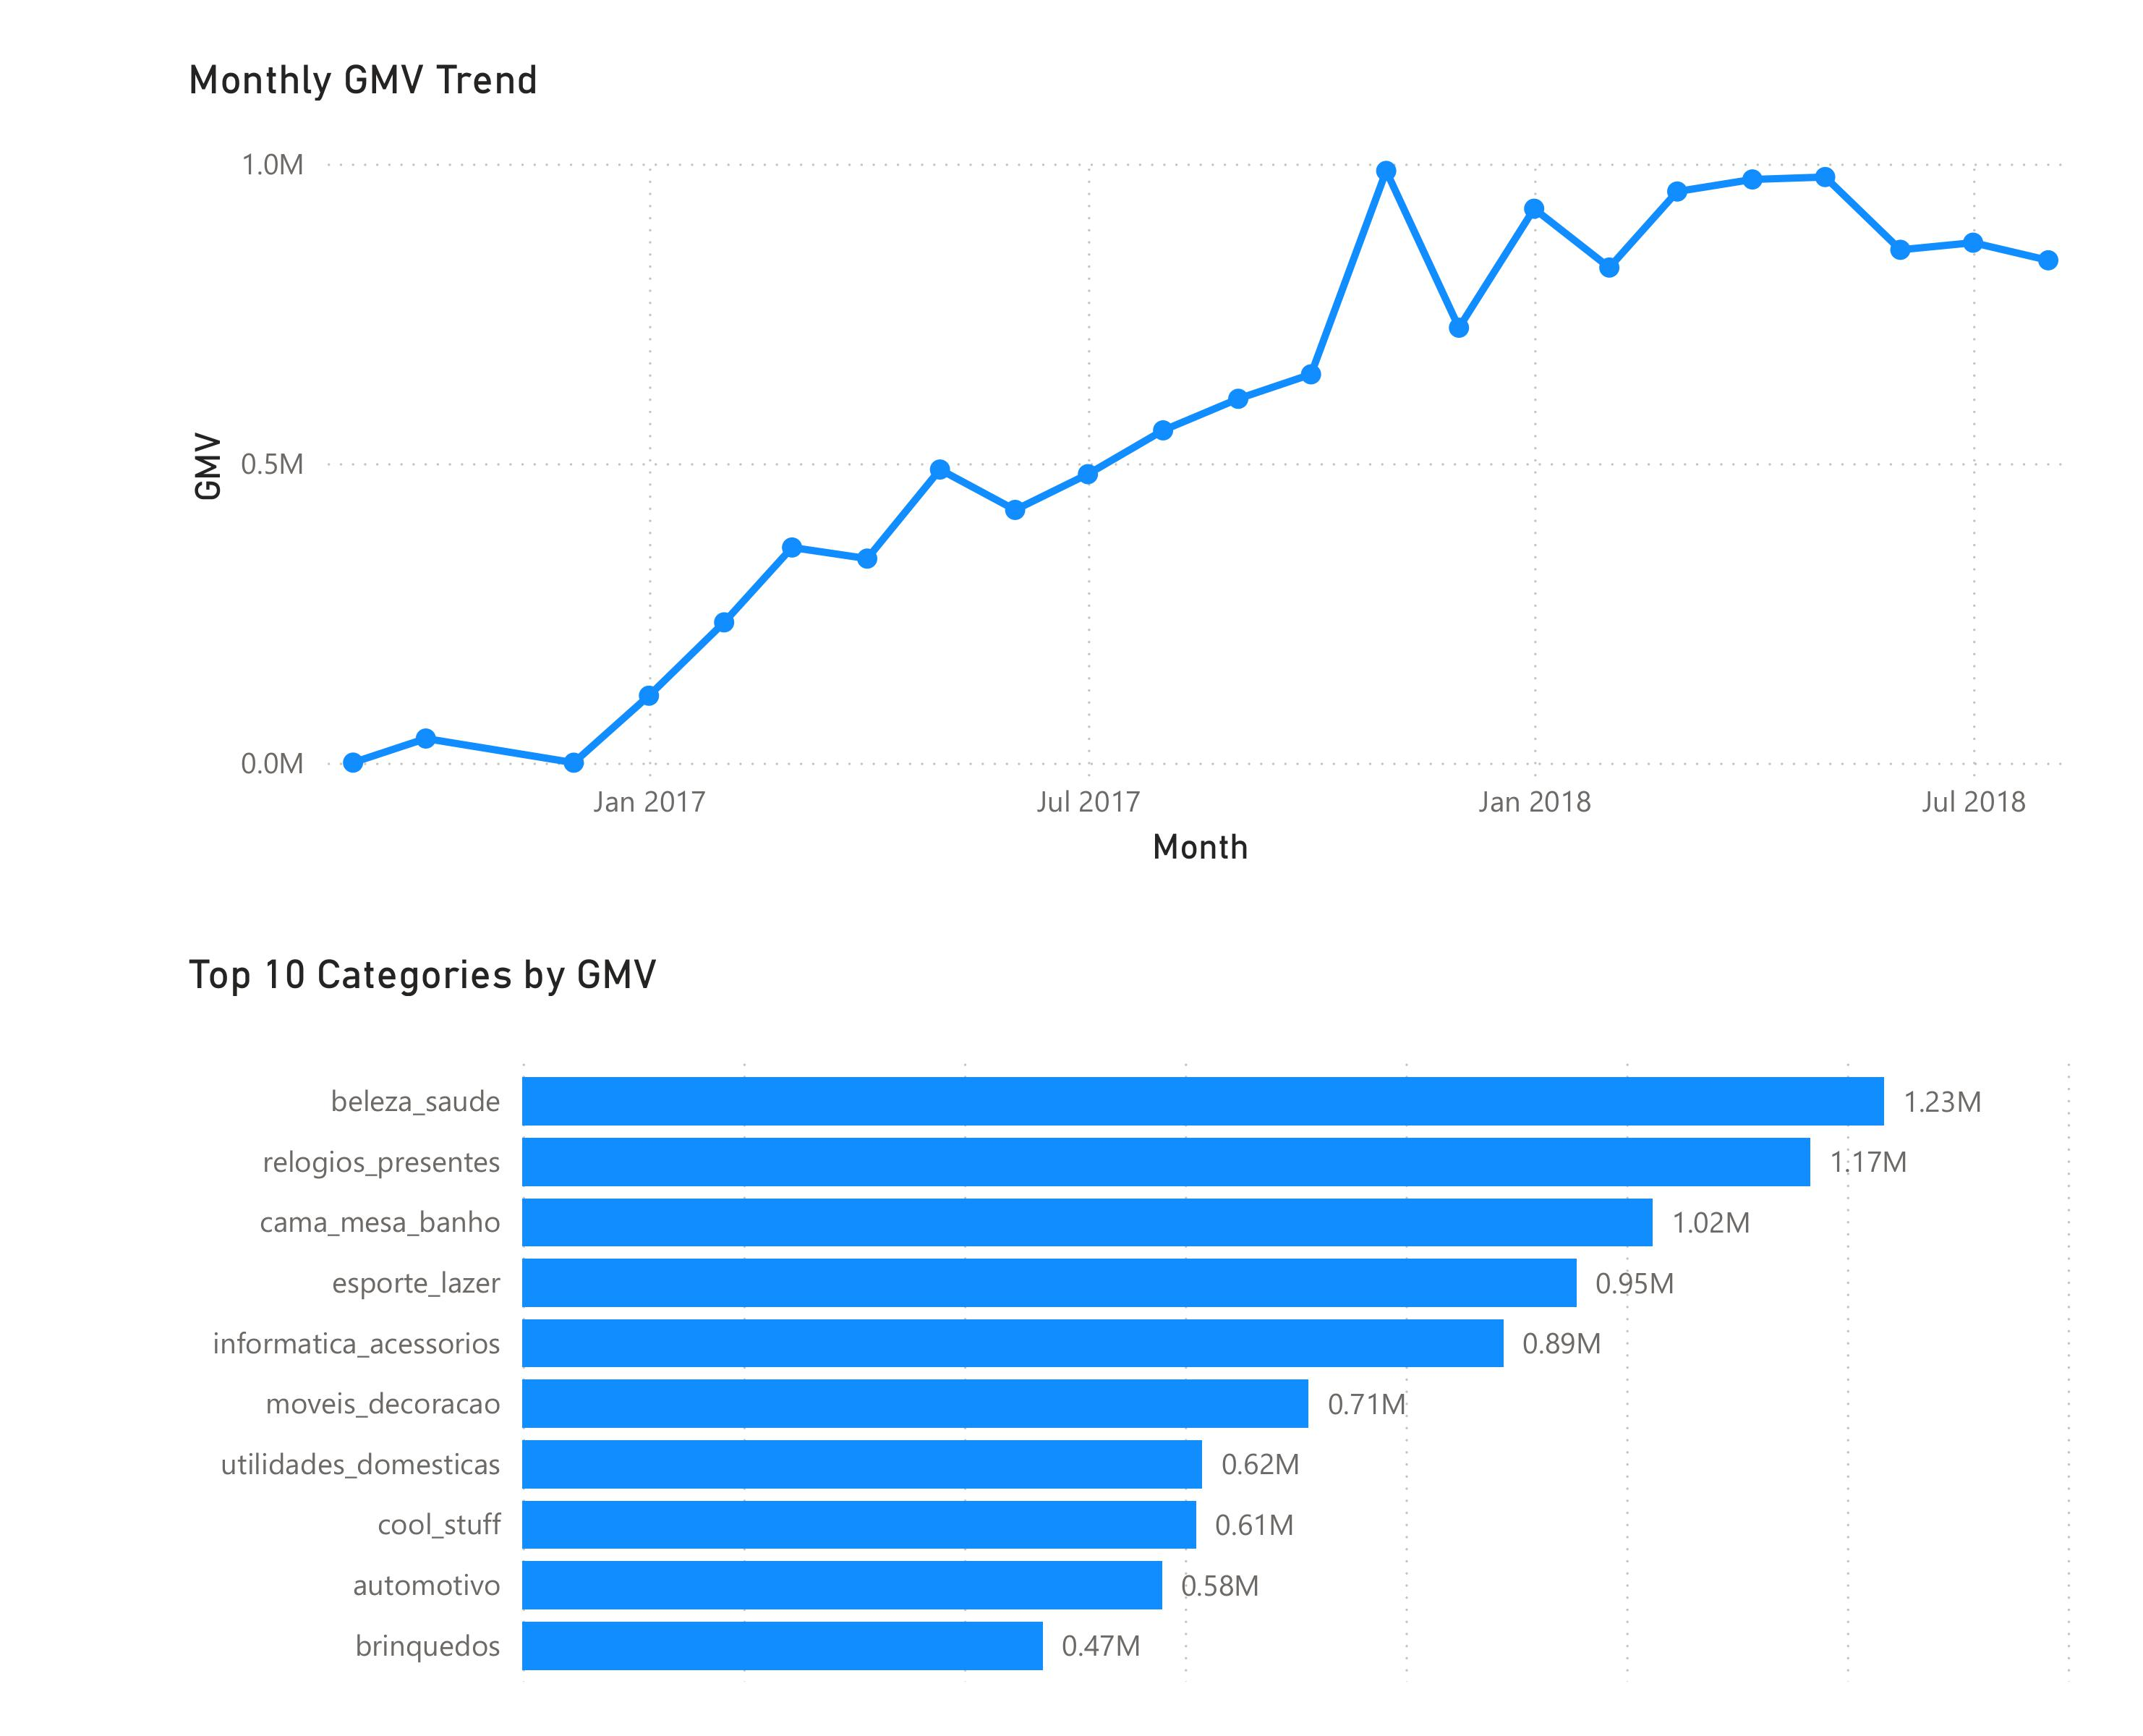

This screenshot's page, from the dashboard's own definition file:
{"tool":"powerbi","page":{"name":"Page 1","canvas":[900,720],"ordinal":0},"visuals":[{"type":"lineChart","title":"Monthly GMV Trend","fields":{"Y":["Sum(gmv_by_month.gmv)"],"Category":["gmv_by_month.month"]},"box":[50,20,800,340],"z":0},{"type":"clusteredBarChart","title":"Top 10 Categories by GMV","fields":{"Y":["Sum(category_gmv.gmv)"],"Category":["category_gmv.category"]},"box":[50,370,800,350],"z":1000}]}

Visuals, with their boxes on the page's 900x720 design canvas (x1, y1, x2, y2). These are canvas units, not pixel positions in the 2143x1736 screenshot, which may show the page scaled, cropped or inside an application window:
"Monthly GMV Trend" lineChart: 50/20/850/360
"Top 10 Categories by GMV" clusteredBarChart: 50/370/850/720
